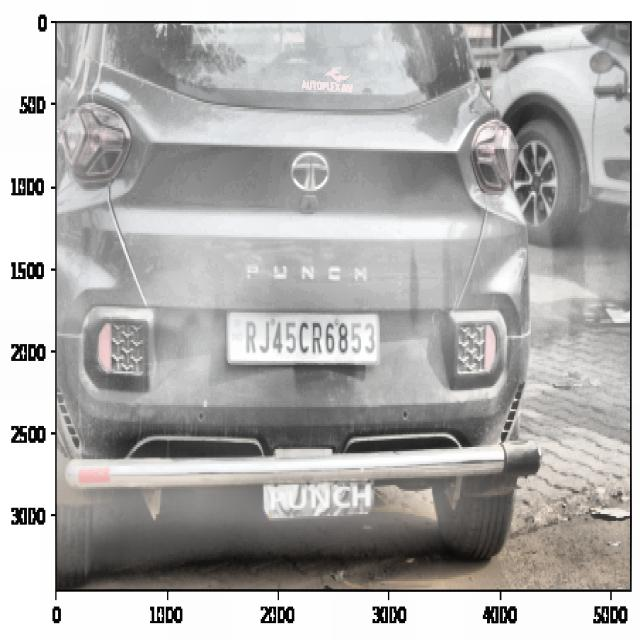license_plate: (242, 314, 381, 365)
